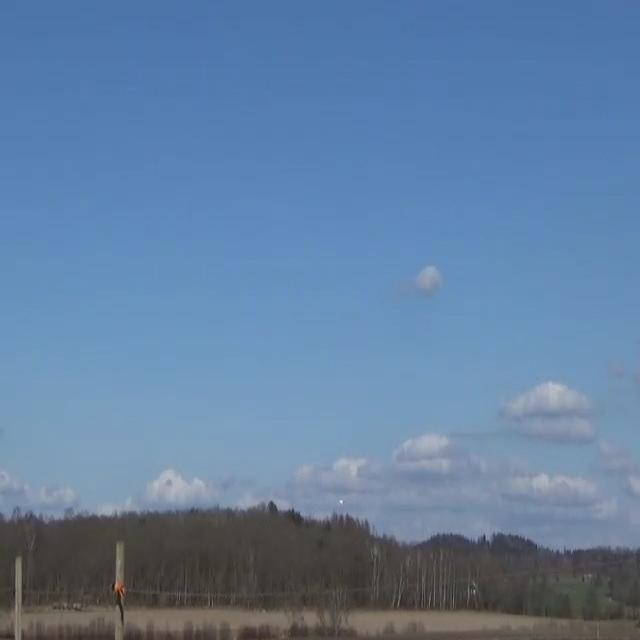drone: (338, 500, 343, 508)
